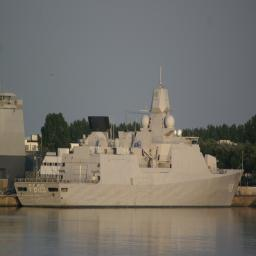Fragata: (15, 65, 247, 212)
